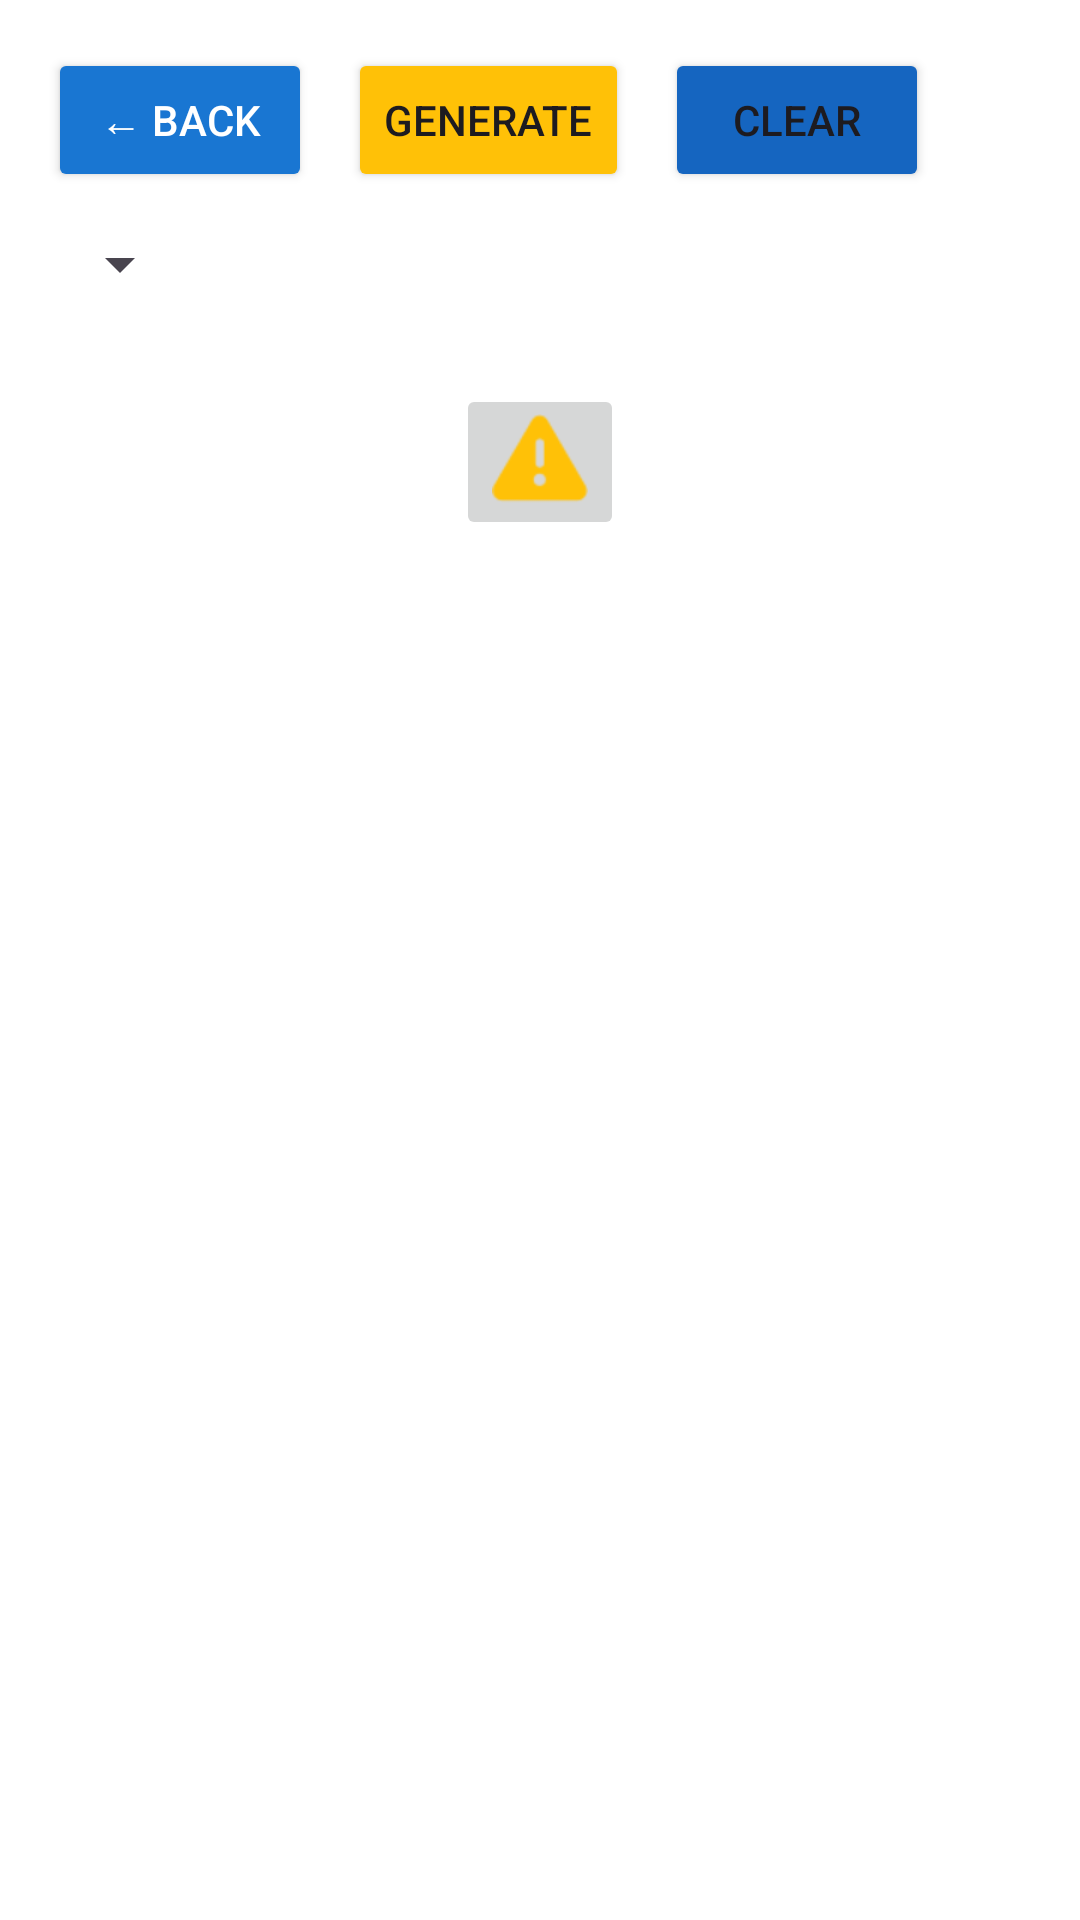

Named icons in this screenshot (1080 × 1920) and their bounding boxes, (x1, y1, x2, y2):
Show scheduling issues: (468, 402, 612, 522)
